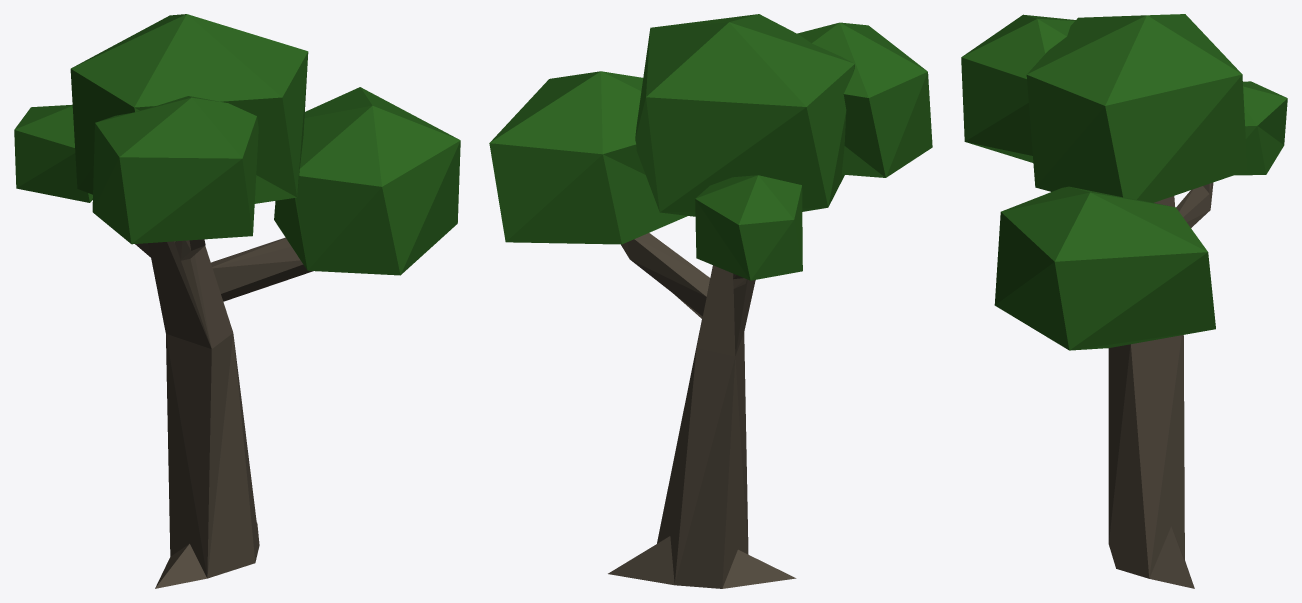
File: round-tree-1.glb
3 views of the same model, side by side, from view 1: azimuth 30°, elevation 25°; view 2: azimuth 150°, elevation 25°; view 3: azimuth 270°, elevation 25° (orthographic). The views are drawn at different scales.
Visible parts, largest first — view 1: Sketchup; view 2: Sketchup; view 3: Sketchup.
Part boxes in pixels (x1,y1,x2,y2): Sketchup: (14, 14, 460, 588); Sketchup: (489, 14, 932, 588); Sketchup: (961, 14, 1287, 588).
Size of the model in its own units: 3.76 by 5.45 by 3.05.
